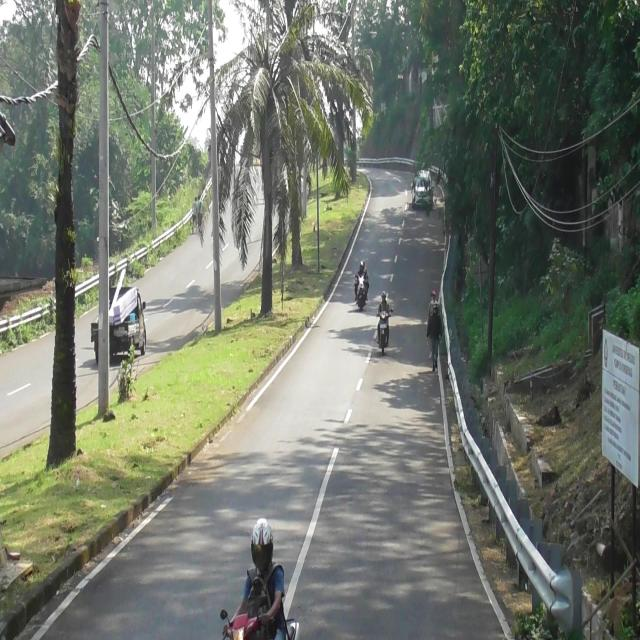motorcycle: (220, 598, 299, 640), (378, 310, 389, 357), (357, 277, 366, 310)
person: (223, 514, 287, 640), (377, 287, 390, 317), (354, 259, 368, 282), (361, 259, 366, 270)
rider_region: (218, 519, 300, 640), (377, 289, 392, 354), (354, 255, 368, 312)
